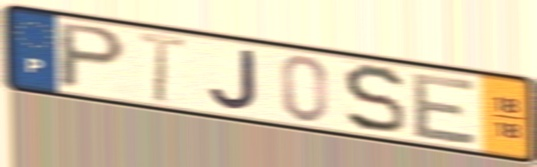0: (278, 53, 330, 125)
E: (411, 71, 481, 147)
J: (207, 47, 262, 112)
P: (56, 19, 130, 92)
S: (340, 62, 408, 137)
T: (135, 28, 189, 105)
